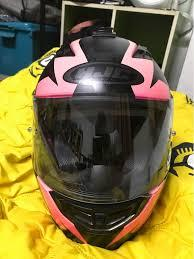helmet: (37, 15, 173, 253)
